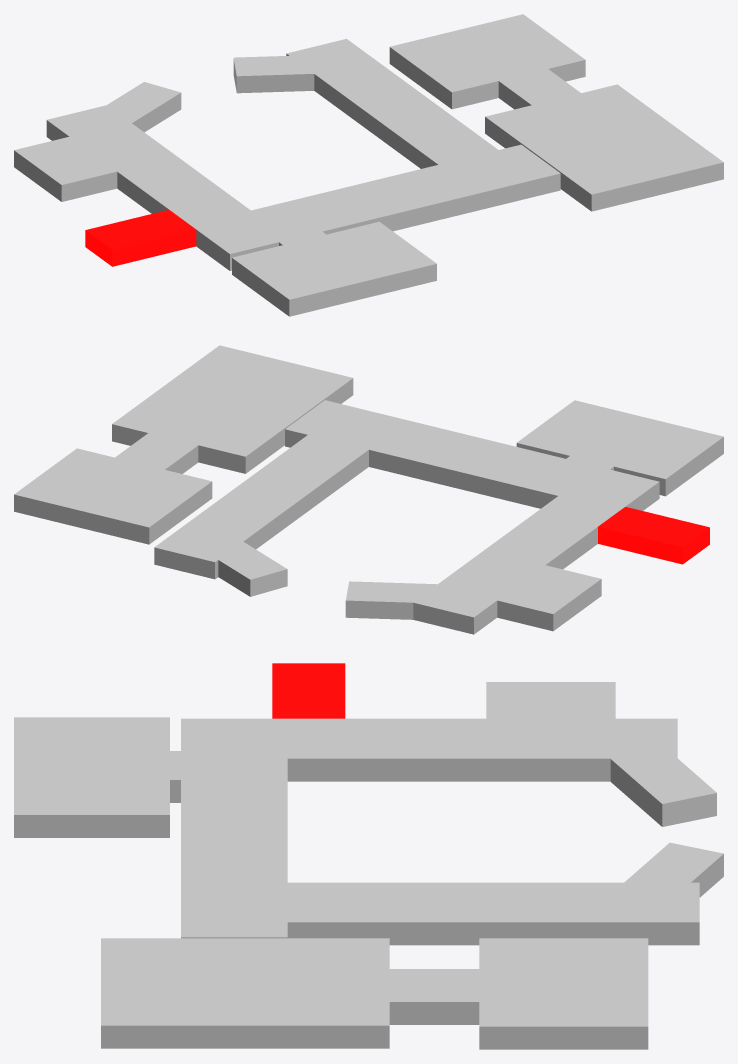
3 views of the same model, one above another, from view 1: azimuth 30°, elevation 25°; view 2: azimuth 150°, elevation 25°; view 3: azimuth 270°, elevation 25° (orthographic). The views are drawn at different scales.
Visible parts, largest first — view 1: Cube__5_, Cube__2_, Cube__8_, Cube, Cube__7_, Cube__1_, Cube__4_, Cube__12_, Cube__10_, Cube__6_, Cube__11_; view 2: Cube__2_, Cube__5_, Cube, Cube__7_, Cube__1_, Cube__8_, Cube__4_, Cube__12_, Cube__11_, Cube__10_, Cube__6_; view 3: Cube__5_, Cube, Cube__2_, Cube__1_, Cube__8_, Cube__7_, Cube__6_, Cube__11_, Cube__4_, Cube__12_, Cube__10_.
Boxes of the visible parts, <box> form: Cube__5_: <box>485,84,723,211</box>; Cube__2_: <box>191,144,560,270</box>; Cube__8_: <box>232,221,436,316</box>; Cube: <box>286,39,501,168</box>; Cube__7_: <box>389,14,585,109</box>; Cube__1_: <box>46,105,250,225</box>; Cube__4_: <box>14,136,117,201</box>; Cube__12_: <box>85,210,196,266</box>; Cube__10_: <box>233,55,314,93</box>; Cube__6_: <box>495,66,593,114</box>; Cube__11_: <box>94,82,181,132</box>; Cube__2_: <box>285,400,659,510</box>; Cube__5_: <box>112,345,353,473</box>; Cube: <box>154,433,371,579</box>; Cube__7_: <box>14,448,212,544</box>; Cube__1_: <box>413,496,618,634</box>; Cube__8_: <box>516,400,723,496</box>; Cube__4_: <box>497,565,601,631</box>; Cube__12_: <box>598,507,709,564</box>; Cube__11_: <box>345,581,438,619</box>; Cube__10_: <box>209,541,287,596</box>; Cube__6_: <box>111,433,209,473</box>; Cube__5_: <box>101,938,389,1048</box>; Cube: <box>279,882,699,945</box>; Cube__2_: <box>181,718,287,938</box>; Cube__1_: <box>287,718,677,781</box>; Cube__8_: <box>14,717,169,837</box>; Cube__7_: <box>479,938,648,1049</box>; Cube__6_: <box>354,969,489,1024</box>; Cube__11_: <box>610,747,716,826</box>; Cube__4_: <box>486,682,615,719</box>; Cube__12_: <box>272,663,345,718</box>; Cube__10_: <box>624,842,723,897</box>.
Bounding box in the file's own units: 3384 × 100 × 2795.
